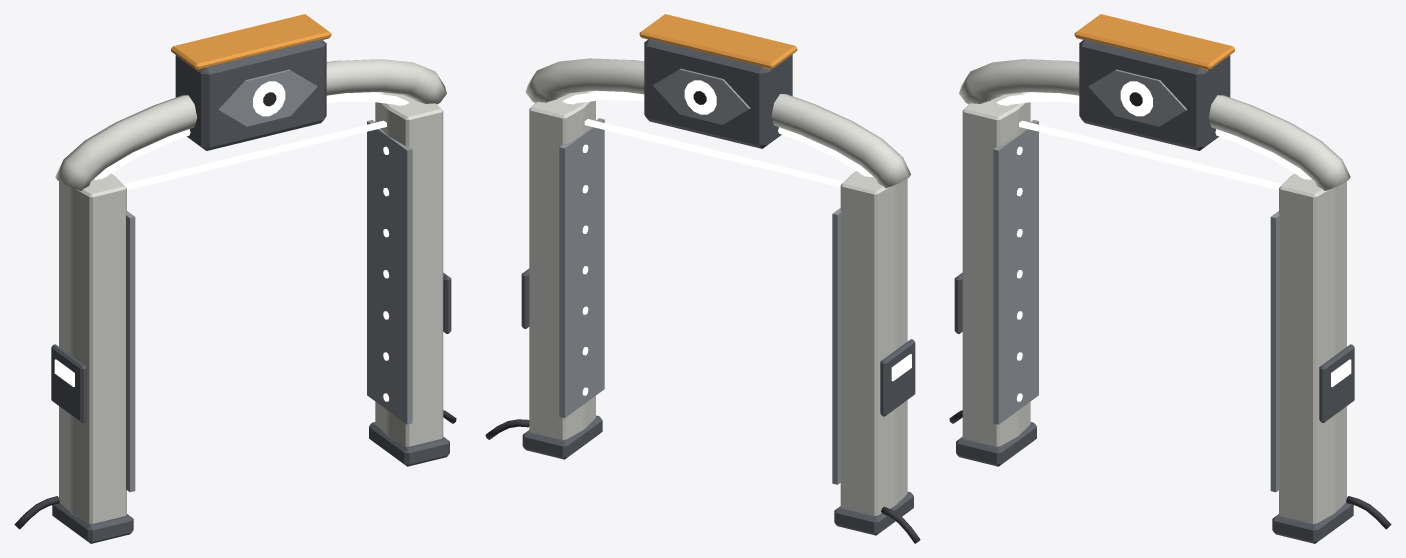
File: arch_security.glb
3 views of the same model, side by side, from view 1: azimuth 30°, elevation 25°; view 2: azimuth 150°, elevation 25°; view 3: azimuth 330°, elevation 25° (orthographic).
Visible parts, largest first — view 1: arch_security, scanbar; view 2: arch_security, scanbar; view 3: arch_security, scanbar.
Part boxes in pixels (x1,y1,x2,y2): arch_security: [14, 14, 456, 543]; scanbar: [123, 120, 386, 190]; arch_security: [485, 14, 920, 543]; scanbar: [584, 119, 844, 187]; arch_security: [949, 14, 1391, 543]; scanbar: [1019, 120, 1282, 190].
Bounding box in the file's own units: 4.04 × 3.93 × 0.64.
